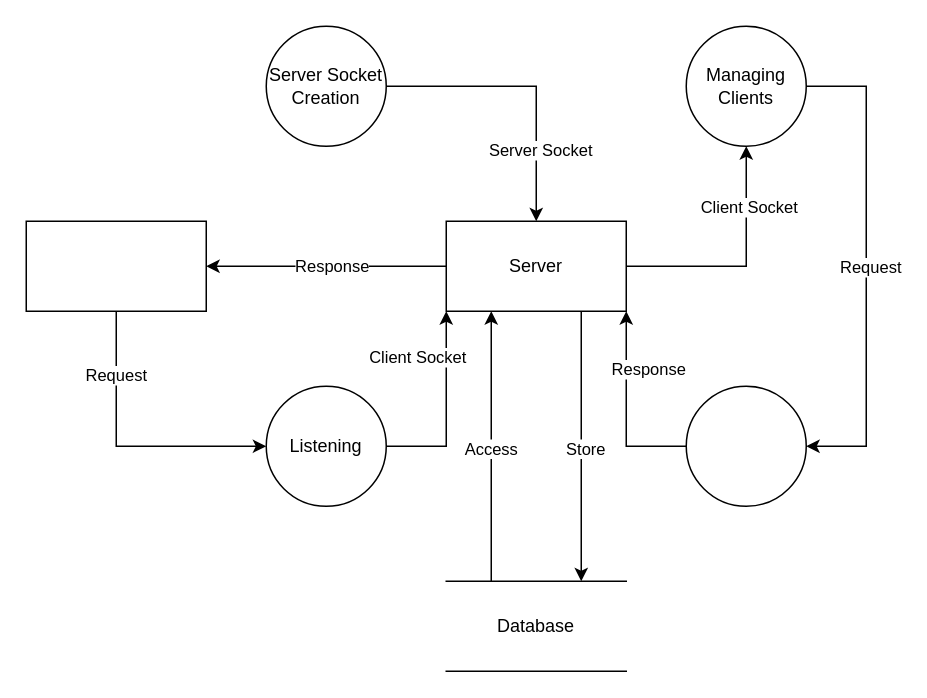
Image size: 927x698. Some labels were removed from this diagram. Here are the shapes that lost their labels. From the top down, the centre of each, then its label:
[115,265]: Client
[745,445]: Handling Request
